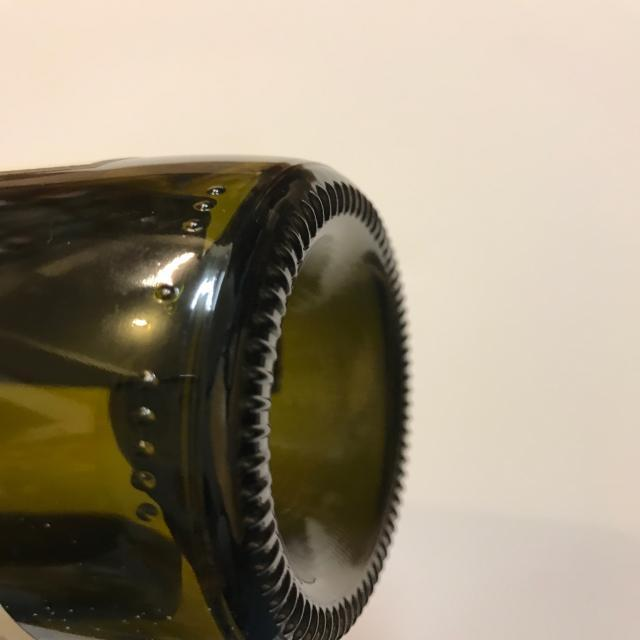glass: (2, 155, 410, 640)
